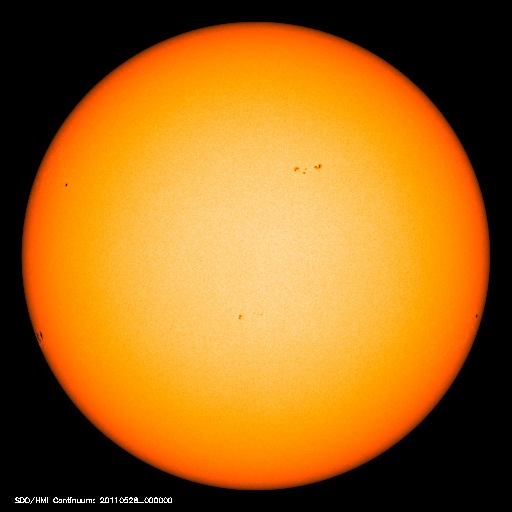sunspot: (223, 301, 261, 332), (286, 157, 329, 184), (25, 320, 57, 352), (53, 171, 80, 199), (465, 304, 488, 332)
